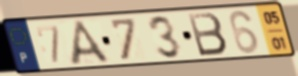3: (147, 13, 183, 60)
6: (226, 9, 263, 56)
7: (109, 16, 140, 63), (36, 24, 62, 64)
A: (69, 19, 114, 68)
B: (185, 11, 230, 58)
